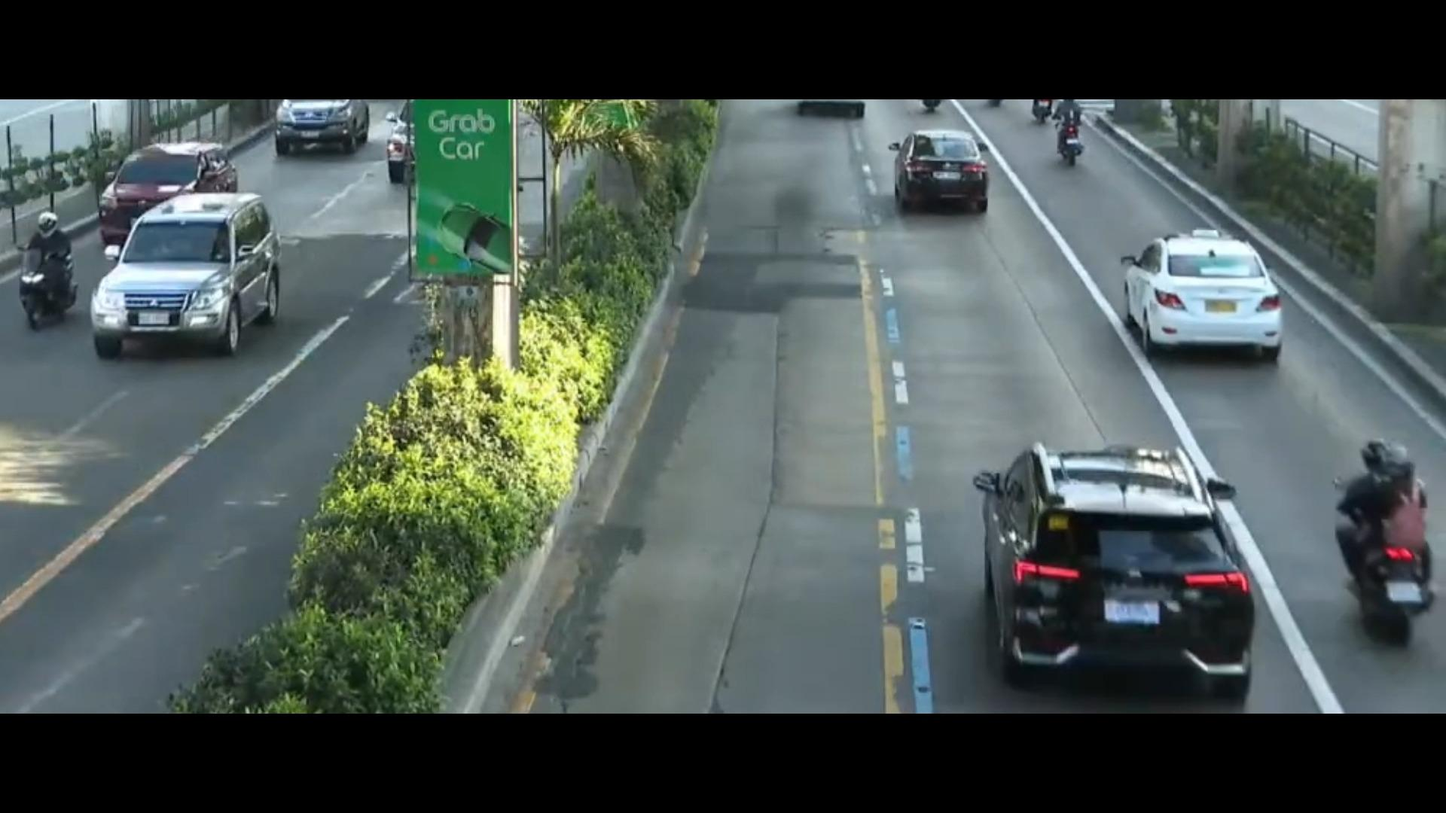Motorcycle: (1336, 433, 1432, 672), (13, 198, 96, 336), (1046, 106, 1098, 182)
SUV: (934, 413, 1286, 696), (84, 202, 290, 351), (93, 138, 253, 247), (260, 98, 382, 160)
Sedan: (1098, 217, 1335, 378), (863, 119, 1000, 215)
